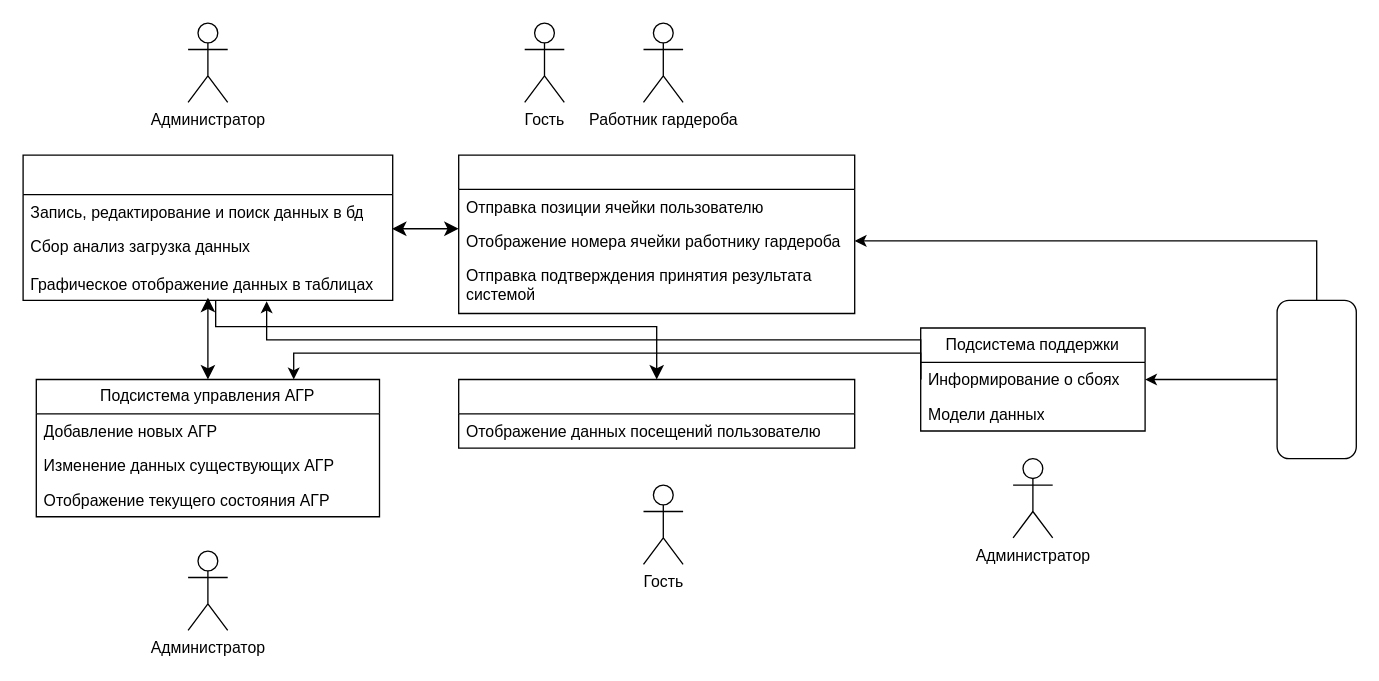
This 1379x681 diagram has some shape labels left out. Each missing label, with the box of its shape:
Внешние системы: (1276, 299, 1356, 459)
Подсистема работы с бд: (22, 154, 393, 300)
Подсистема работы с пользователем: (457, 378, 855, 448)
Подсистема работы с ячейками: (457, 154, 855, 314)
